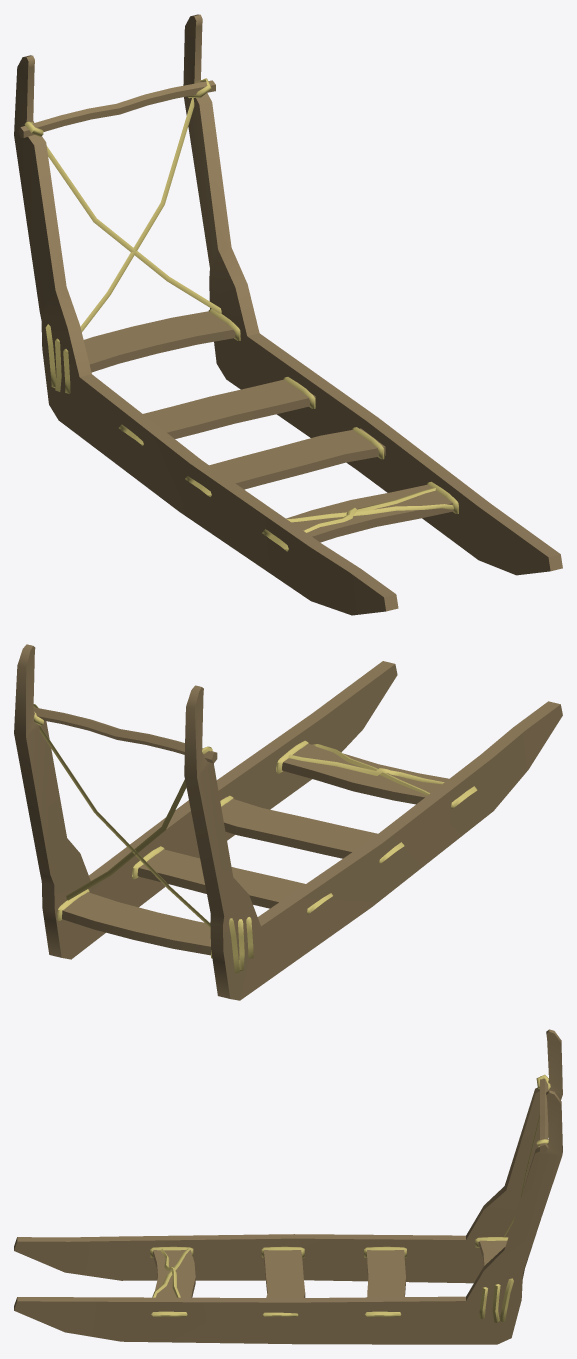
Rendered from arctic_sled.fbx.
The picture shows the model from 3 angles, top to bottom: view 1: azimuth 30°, elevation 25°; view 2: azimuth 150°, elevation 25°; view 3: azimuth 270°, elevation 25°; orthographic projection. The views are drawn at different scales.
Parts seen in each view (by area): view 1: arctic_sled; view 2: arctic_sled; view 3: arctic_sled.
Boxes of the visible parts, x1,y1,x2,y2 form: arctic_sled: [14, 14, 562, 615]; arctic_sled: [14, 644, 562, 1000]; arctic_sled: [14, 1029, 562, 1344].
Bounding box in the file's own units: 0.7119 × 1.18 × 2.34.
